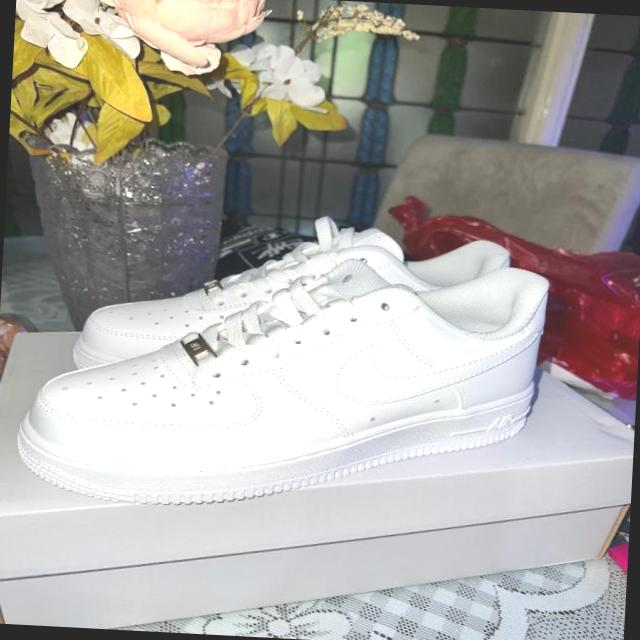nike_original_airforce: (0, 238, 637, 536), (68, 120, 102, 136)
